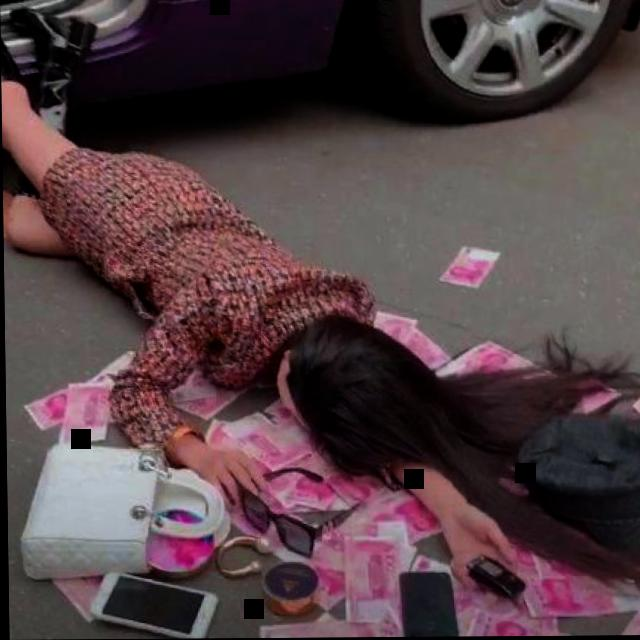Fall-Detected: (2, 9, 593, 548)
